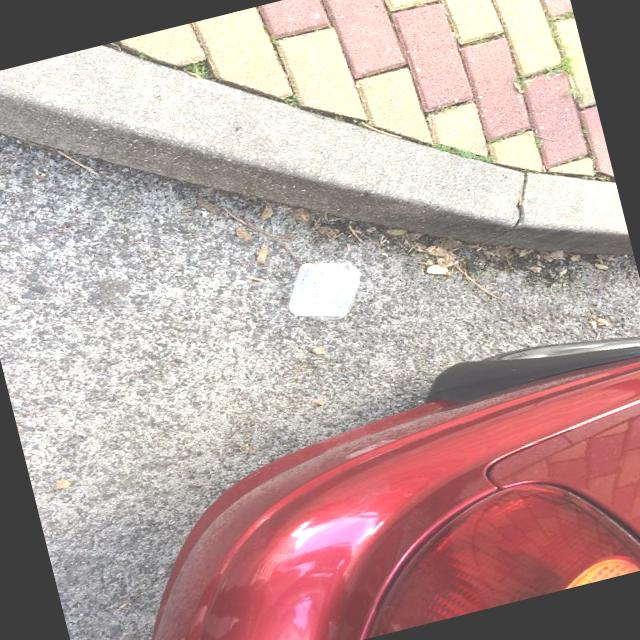Trash: (276, 243, 370, 332)
